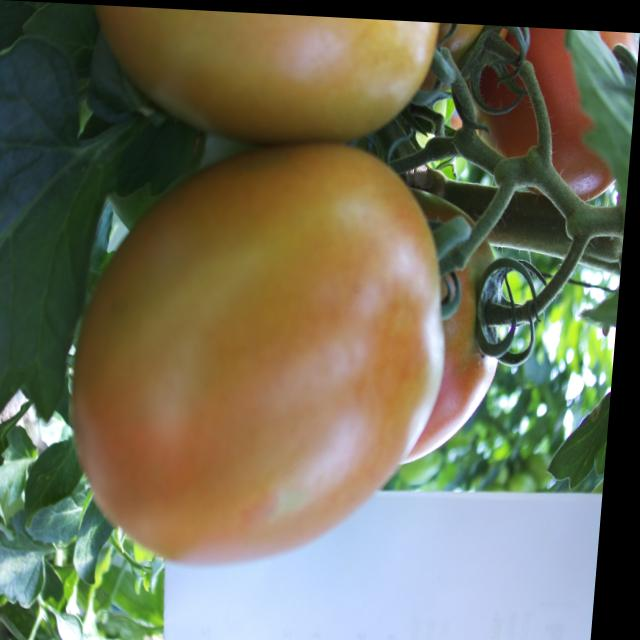sari: (49, 109, 542, 589)
